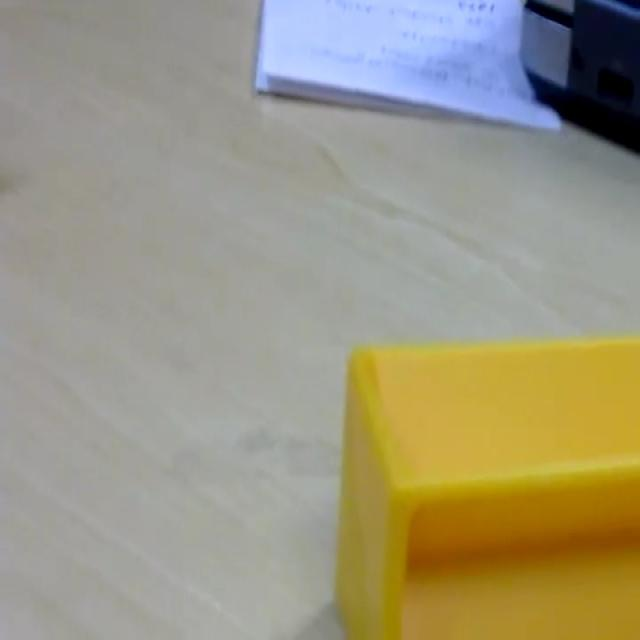yellow_block: (333, 333, 639, 636)
